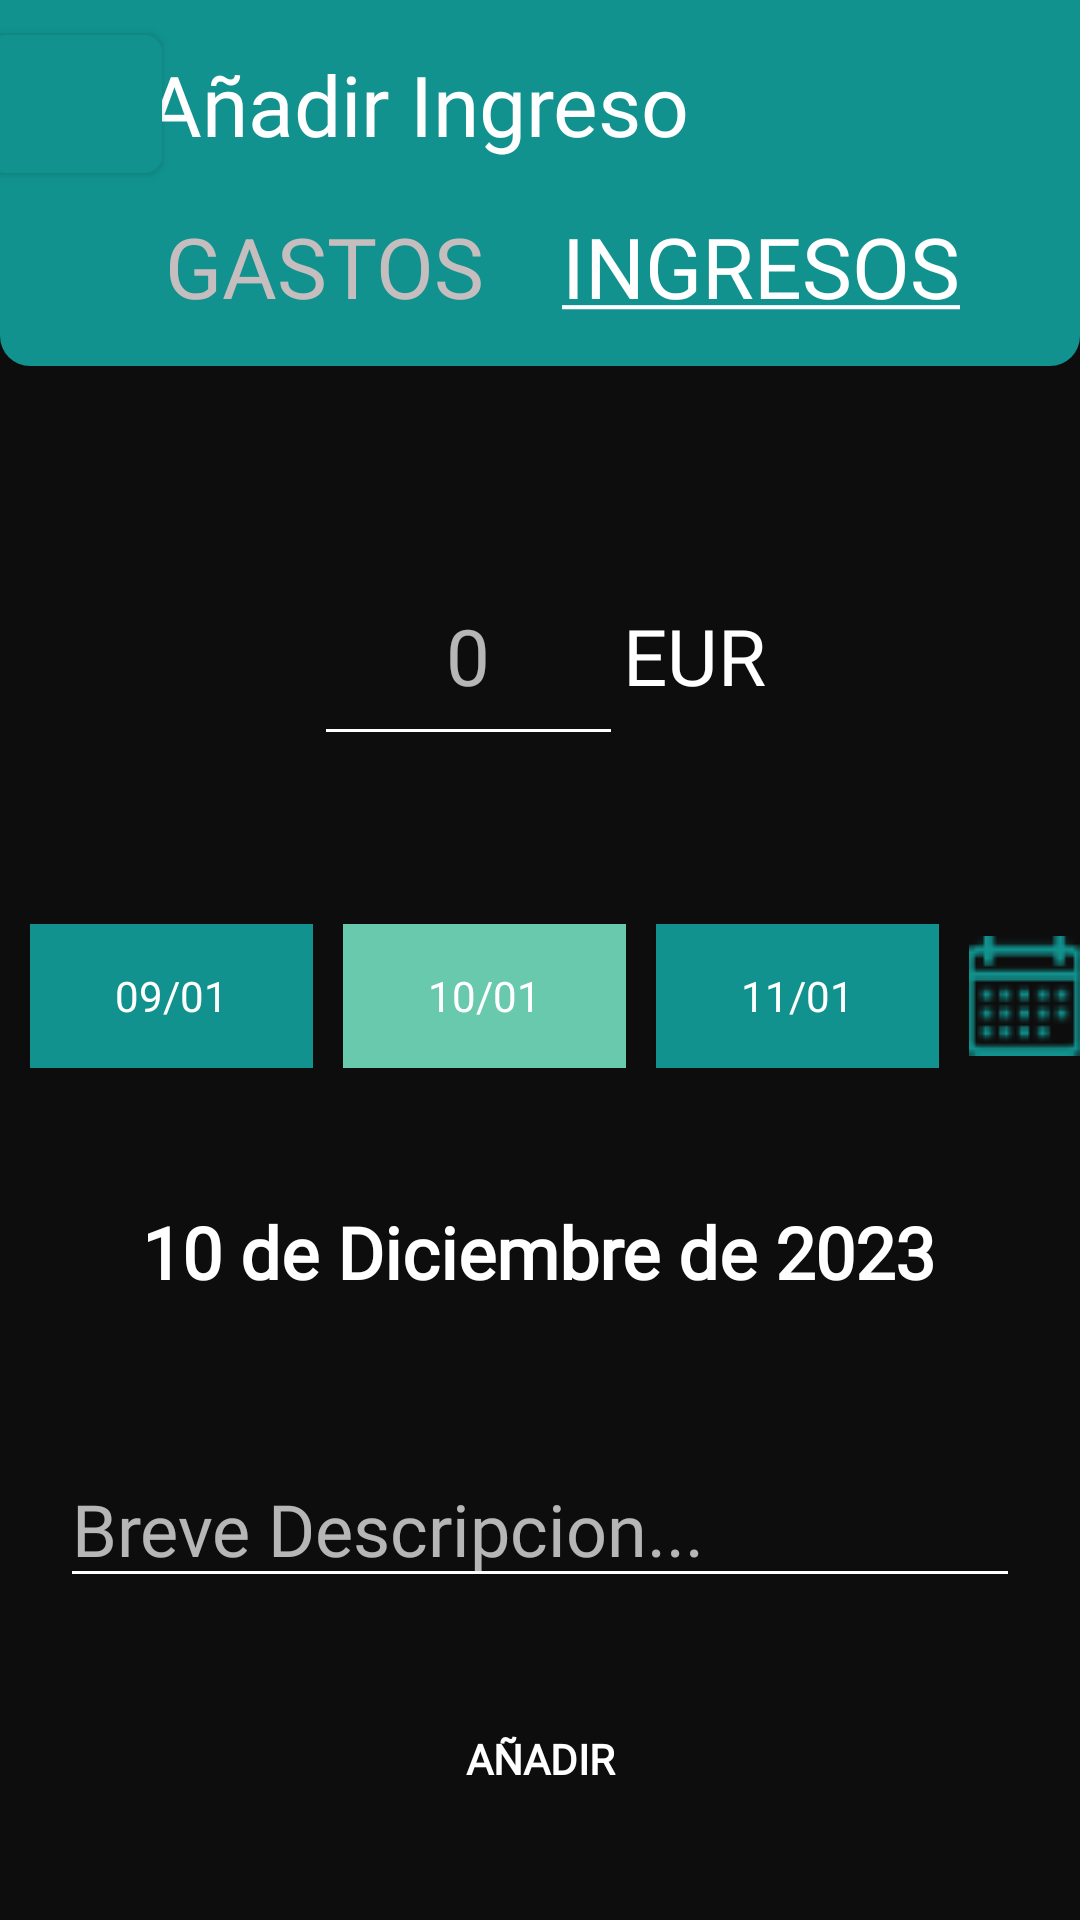

Named icons in this screenshot (1080 × 1920) and their bounding boxes, (x1, y1, x2, y2):
calendar: (969, 936, 1080, 1056)
